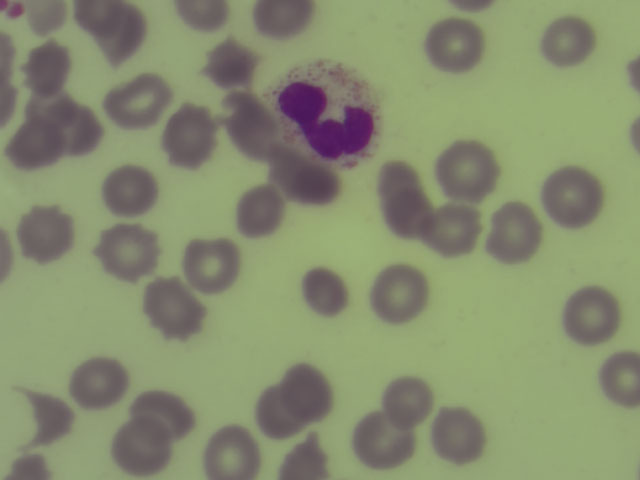RBC: (224, 94, 271, 164), (200, 425, 259, 480), (104, 76, 171, 124), (126, 386, 194, 432), (267, 157, 338, 199), (253, 385, 304, 436), (299, 265, 349, 316), (434, 409, 484, 460), (381, 375, 431, 426), (358, 416, 408, 467), (283, 363, 333, 414), (115, 424, 165, 475), (22, 395, 72, 446), (73, 356, 123, 407), (148, 284, 198, 335), (184, 237, 234, 288), (233, 185, 283, 236), (102, 224, 152, 275), (19, 209, 69, 260), (105, 165, 155, 216), (166, 113, 216, 164), (204, 38, 254, 89), (20, 41, 70, 92), (95, 8, 145, 59), (490, 206, 540, 257), (439, 144, 489, 195), (425, 204, 475, 255), (375, 166, 425, 217), (547, 18, 597, 69), (428, 19, 478, 70), (373, 270, 423, 321), (566, 288, 616, 339), (547, 171, 597, 222), (600, 349, 640, 407), (56, 107, 103, 155), (285, 432, 328, 480), (22, 87, 72, 128), (9, 123, 52, 166), (13, 1, 69, 34), (254, 1, 312, 32), (75, 1, 126, 34), (174, 1, 232, 30)
WBC: (273, 59, 384, 167)
